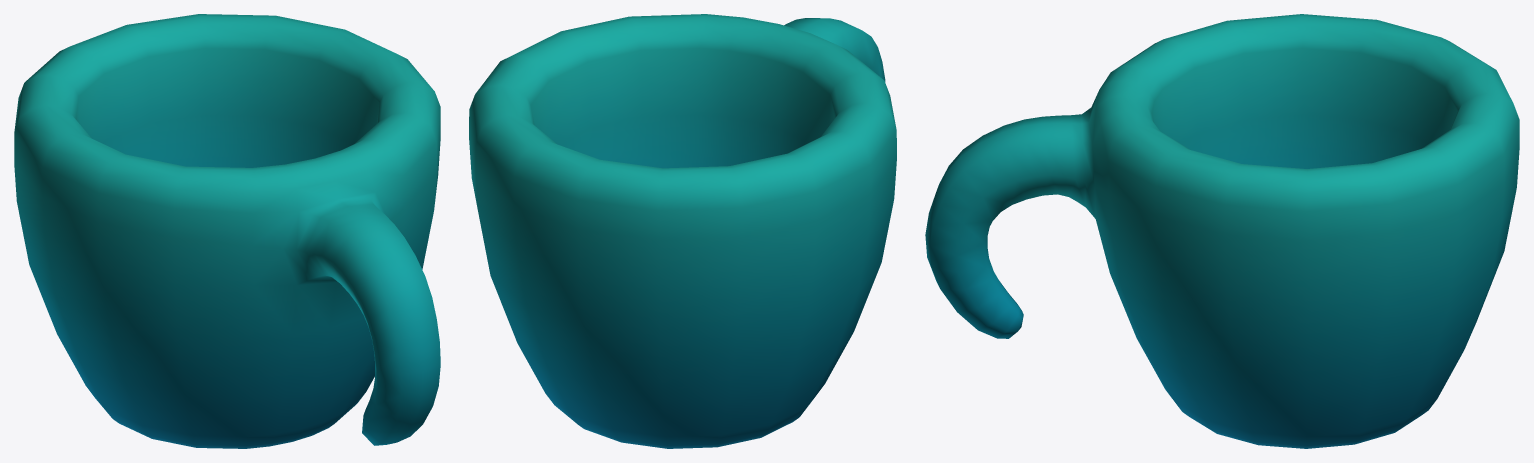
Rendered from Mug's.fbx.
3 renders of one model, left to right at view 1: azimuth 30°, elevation 25°; view 2: azimuth 150°, elevation 25°; view 3: azimuth 270°, elevation 25°, orthographic.
Visible parts, largest first — view 1: Mug_Blue; view 2: Mug_Blue; view 3: Mug_Blue.
Part boxes in pixels (left/top/right/bottom): Mug_Blue: left=14, top=14, right=440, bottom=448; Mug_Blue: left=469, top=14, right=896, bottom=448; Mug_Blue: left=925, top=14, right=1519, bottom=448.
Size of the model in its own units: 22.75 by 17.92 by 31.46.
